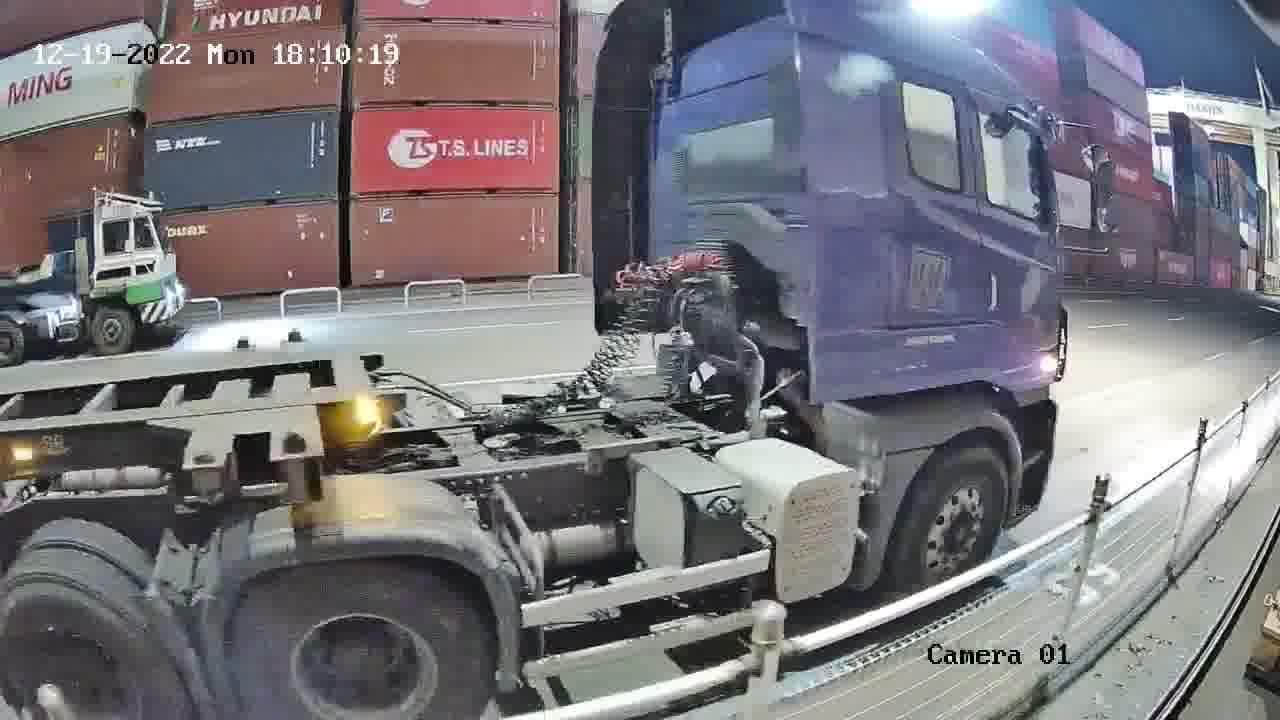Chassis: (183, 345, 253, 469), (271, 338, 319, 458)
Cone: (275, 430, 323, 510), (183, 452, 223, 508), (284, 323, 308, 347), (231, 331, 254, 351)
Tire: (229, 561, 492, 719), (1, 581, 176, 717)
